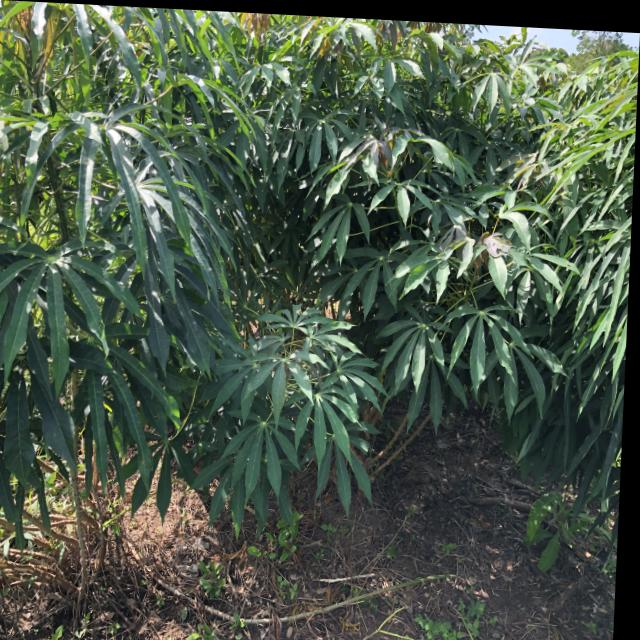Mosca: (126, 396, 143, 413), (246, 449, 259, 467), (320, 428, 334, 442), (252, 363, 262, 376), (156, 382, 166, 392)
